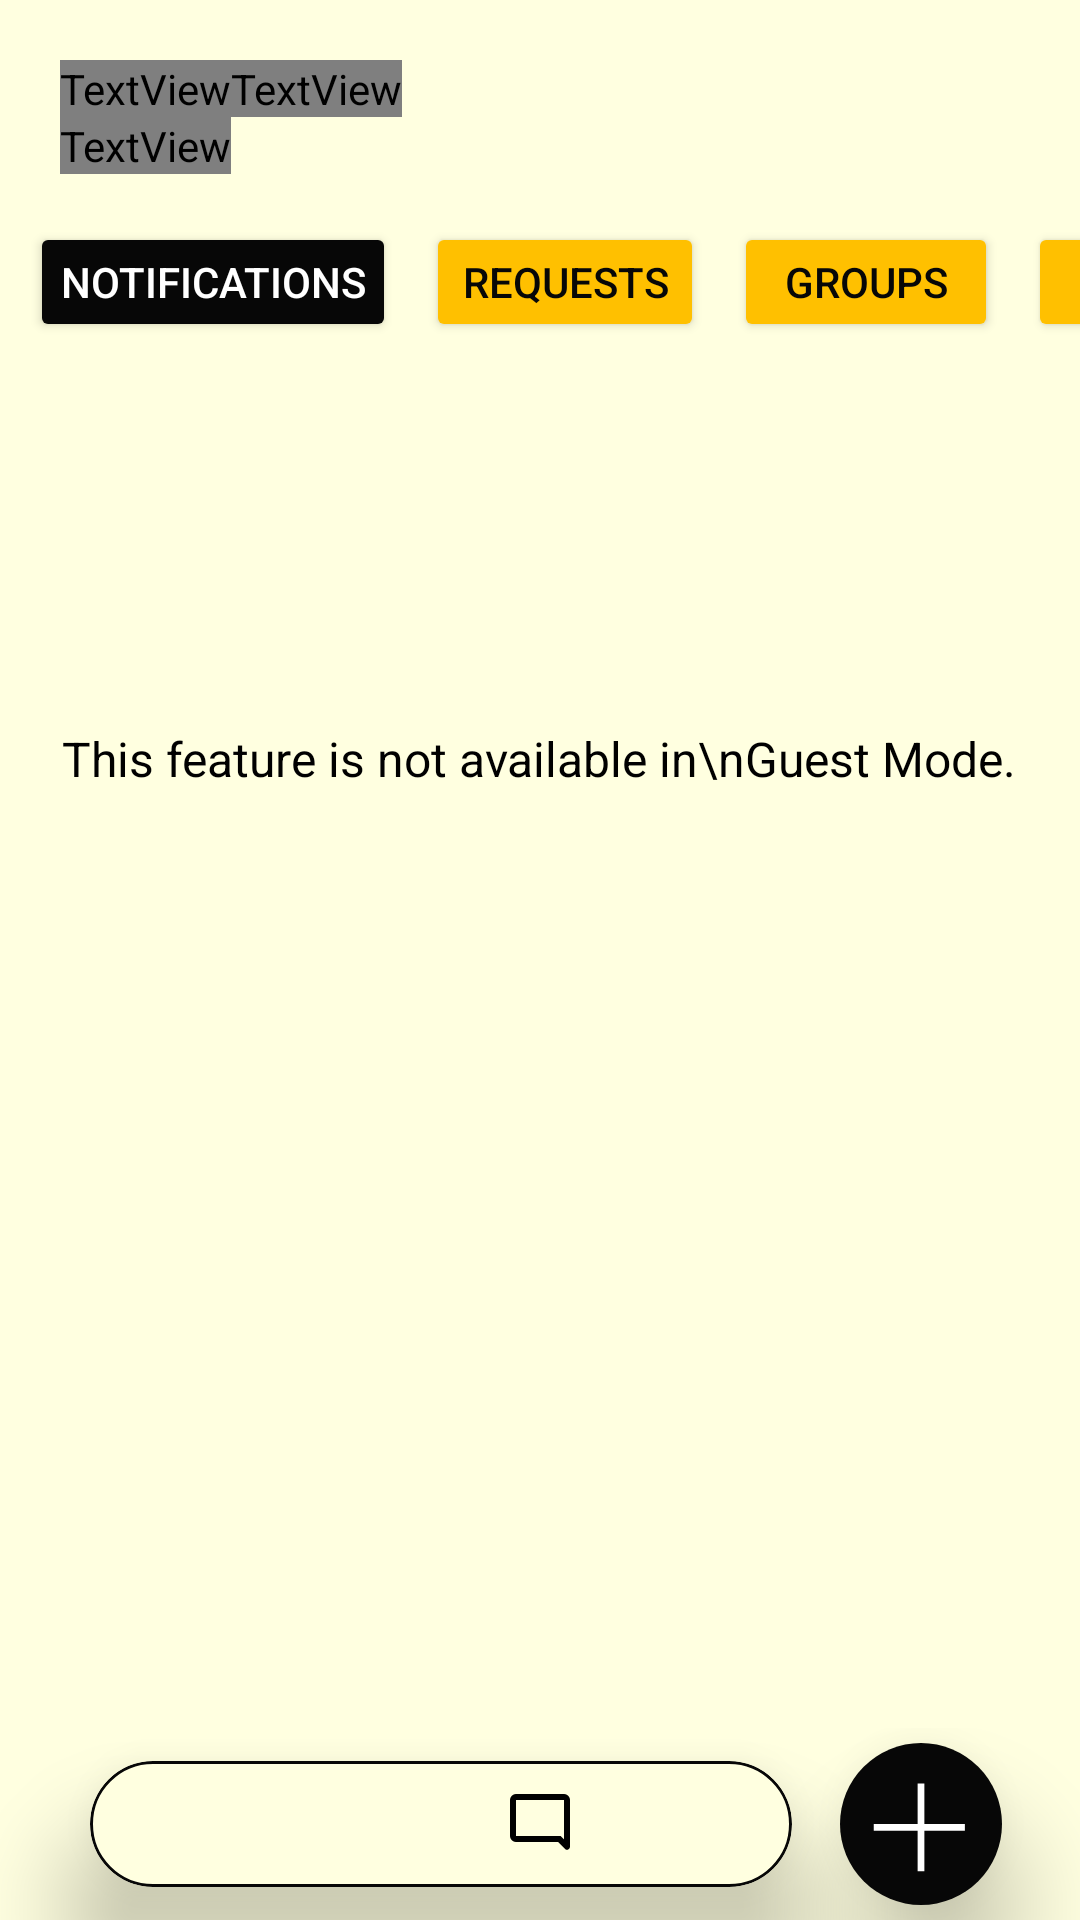

Icon click points for this 1080w x 1920h phone screenshot, format point (x, y):
Add Post: point (921, 1824)
Chats: point (540, 1822)
